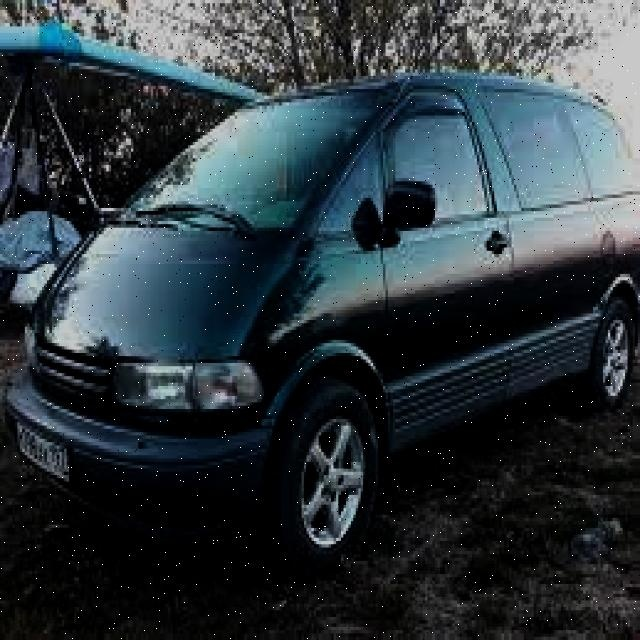Van: (7, 62, 640, 580)
